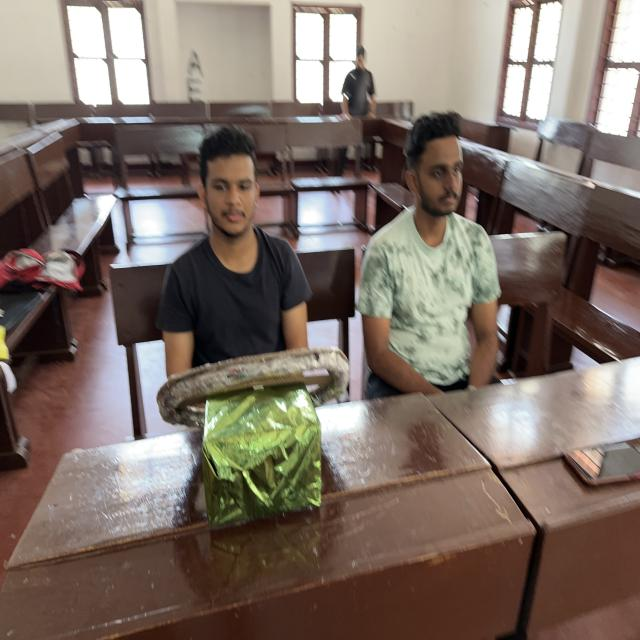Helmet: (160, 231, 318, 437), (360, 211, 505, 418)
